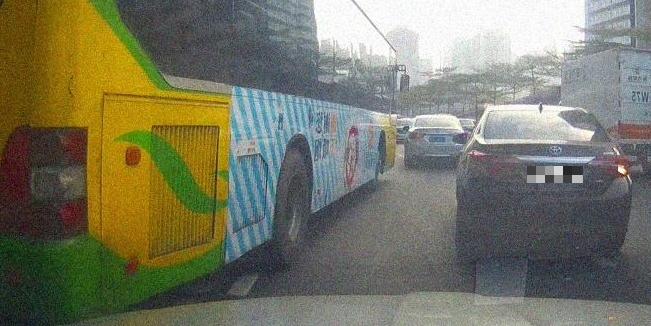L_light: (468, 151, 521, 181)
R_light: (586, 155, 629, 177)
T_light: (535, 134, 562, 139)
day-right: (457, 104, 633, 261)
plate_1: (527, 166, 583, 183)
